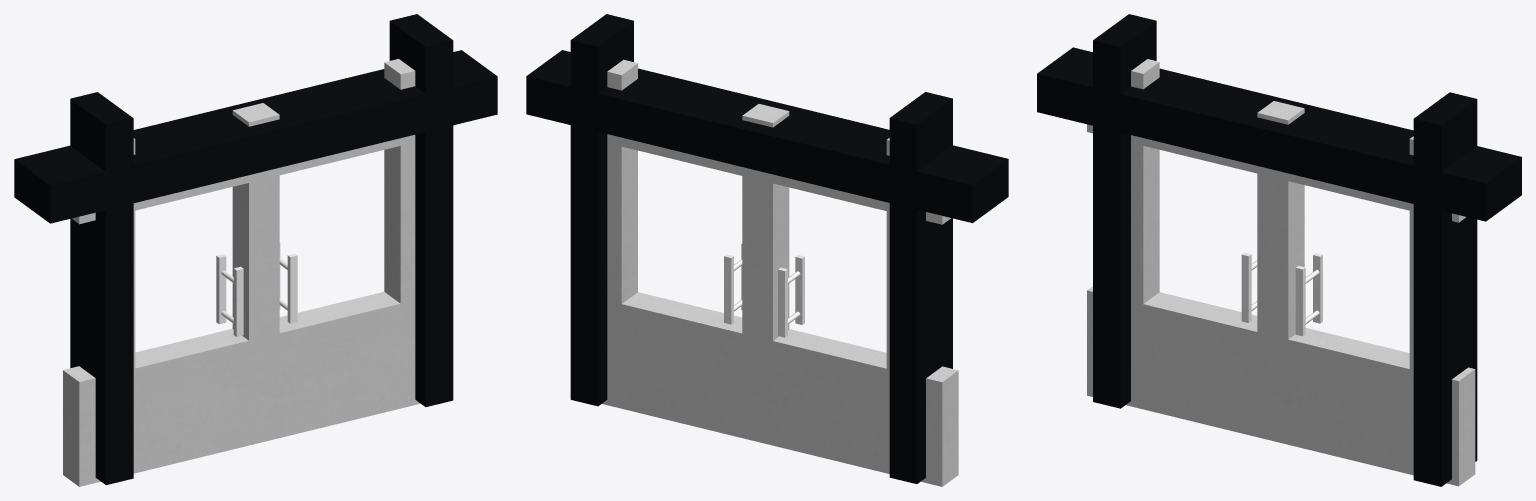
File: door.obj
3 views of the same model, side by side, from view 1: azimuth 30°, elevation 25°; view 2: azimuth 150°, elevation 25°; view 3: azimuth 330°, elevation 25° (orthographic).
Parts seen in each view (by area): view 1: Part1, Part17, Part2, Part13, Part15, Part10, Part16, Part8, Part9, Part6, Part3; view 2: Part1, Part17, Part2, Part13, Part15, Part10, Part16, Part3, Part7, Part6, Part9; view 3: Part1, Part17, Part13, Part2, Part15, Part3, Part16, Part10, Part8, Part9, Part7.
Boxes of the visible parts, x1=… form: Part1: x1=63, y1=292, x2=420, y2=486; Part17: x1=14, y1=50, x2=497, y2=223; Part2: x1=70, y1=92, x2=133, y2=485; Part13: x1=389, y1=14, x2=453, y2=406; Part15: x1=232, y1=103, x2=279, y2=373; Part10: x1=384, y1=59, x2=415, y2=402; Part16: x1=72, y1=135, x2=415, y2=224; Part8: x1=287, y1=253, x2=297, y2=323; Part9: x1=233, y1=266, x2=243, y2=336; Part6: x1=216, y1=254, x2=226, y2=324; Part3: x1=133, y1=138, x2=135, y2=457; Part1: x1=602, y1=292, x2=958, y2=486; Part17: x1=526, y1=50, x2=1008, y2=223; Part2: x1=889, y1=92, x2=952, y2=483; Part13: x1=570, y1=14, x2=633, y2=406; Part15: x1=742, y1=104, x2=789, y2=372; Part10: x1=607, y1=59, x2=637, y2=401; Part16: x1=607, y1=134, x2=950, y2=224; Part3: x1=886, y1=138, x2=889, y2=467; Part7: x1=724, y1=254, x2=733, y2=324; Part6: x1=778, y1=267, x2=787, y2=337; Part9: x1=795, y1=255, x2=804, y2=324; Part1: x1=1087, y1=286, x2=1475, y2=486; Part17: x1=1037, y1=47, x2=1521, y2=221; Part13: x1=1413, y1=92, x2=1477, y2=486; Part2: x1=1093, y1=14, x2=1156, y2=408; Part15: x1=1257, y1=101, x2=1304, y2=372; Part3: x1=1131, y1=59, x2=1159, y2=403; Part16: x1=1087, y1=124, x2=1465, y2=222; Part10: x1=1409, y1=136, x2=1413, y2=451; Part8: x1=1295, y1=265, x2=1305, y2=336; Part9: x1=1241, y1=252, x2=1251, y2=322; Part7: x1=1313, y1=253, x2=1322, y2=323.
Size of the model in its own units: 17.59 by 13.74 by 2.45.
Materials: 4 (3 with a texture image).
